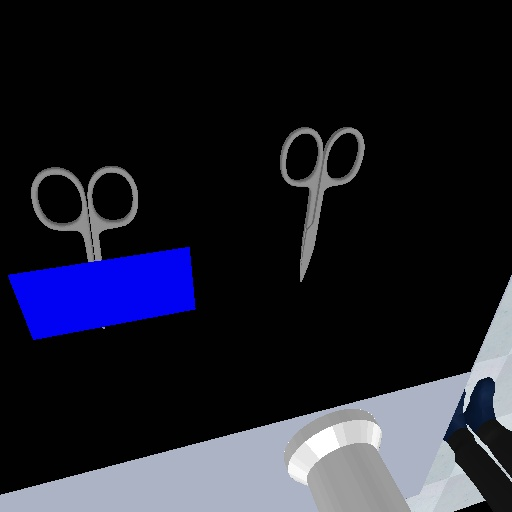tijera: (271, 115, 370, 286), (23, 163, 146, 265)
